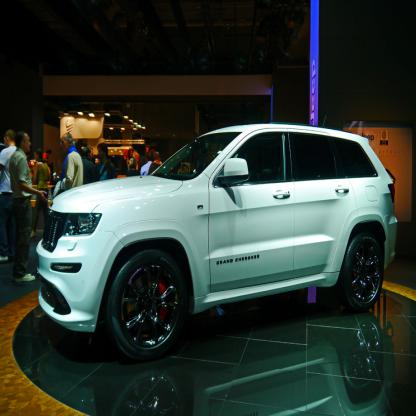Car: (35, 115, 398, 363)
